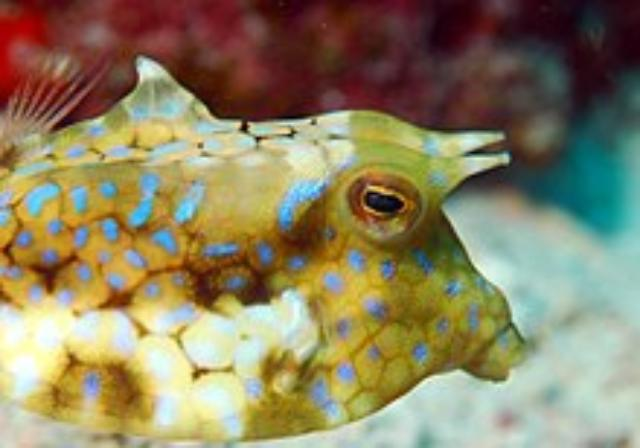Mulut: (451, 279, 553, 407)
